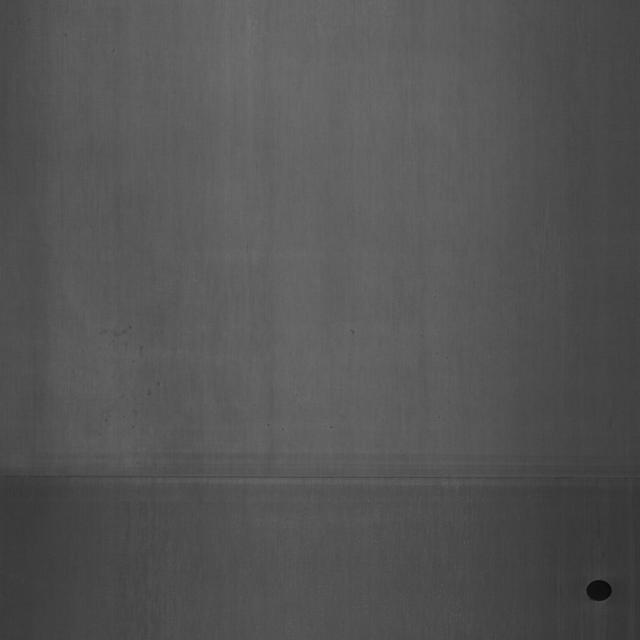crease: (4, 441, 636, 512)
crescent_gap: (583, 572, 616, 608)
